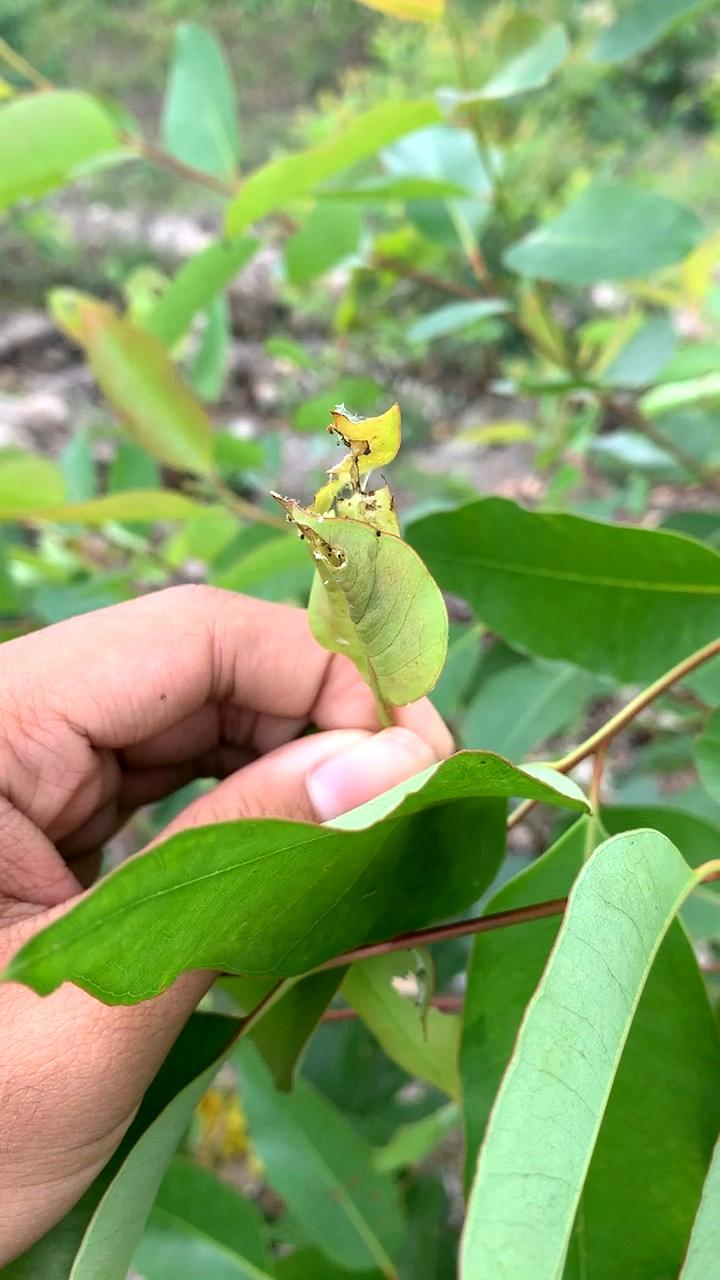Leaf Roller - Leaf: (279, 399, 465, 755)
